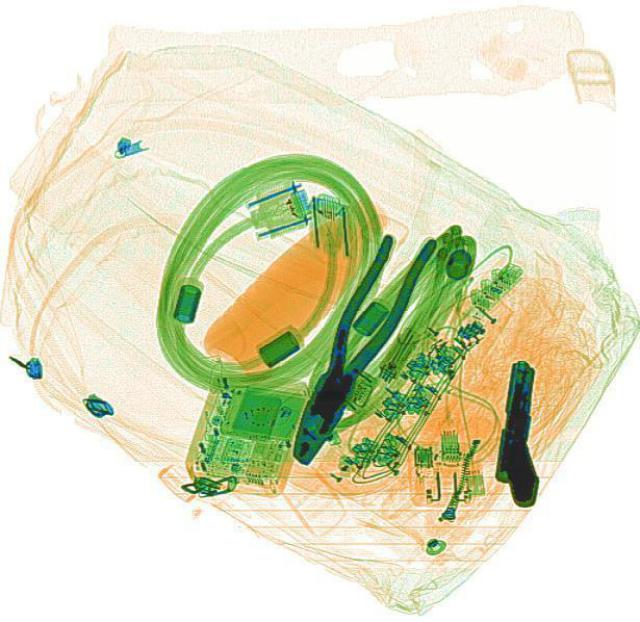Gun: (488, 355, 556, 506)
Pliers: (270, 218, 440, 470)
